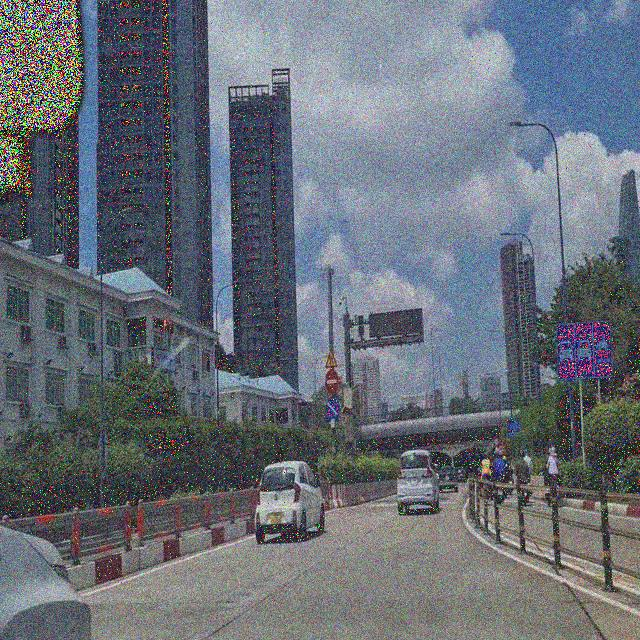Cấm đi ngược chiều: (323, 368, 338, 397)
Hướng phải đi vòng sang phải: (324, 397, 339, 420)
Làn đường cho từng xe: (553, 316, 614, 379)
Đường hẹp: (323, 347, 339, 369)
